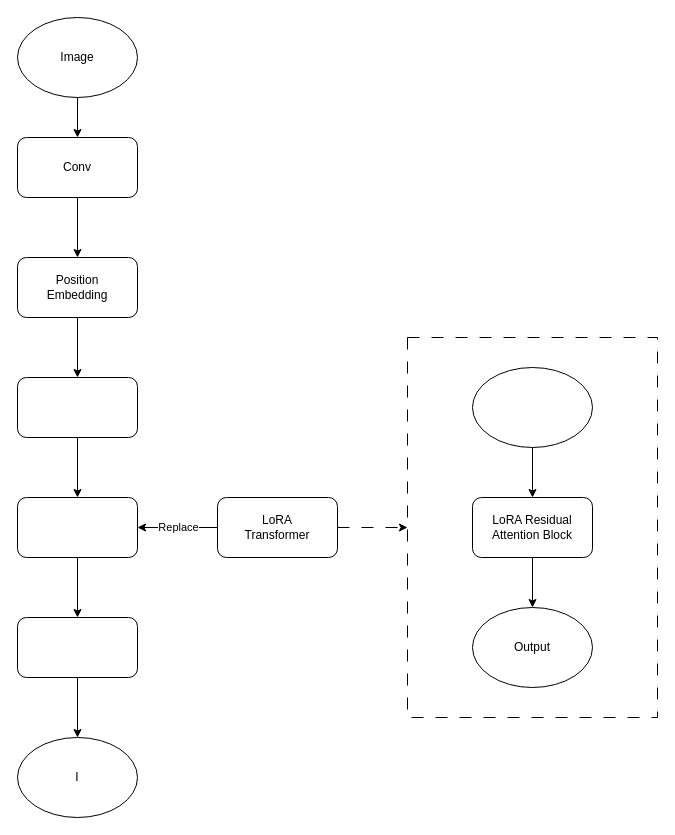
The diagram is 675 pixels wide and 835 high, and some of its shapes have lost their labels. Each missing label, with the box of its shape:
Input: (472, 366, 592, 448)
Layer Normal: (16, 376, 138, 438)
Projection: (16, 616, 138, 678)
Transformer: (16, 496, 138, 558)
